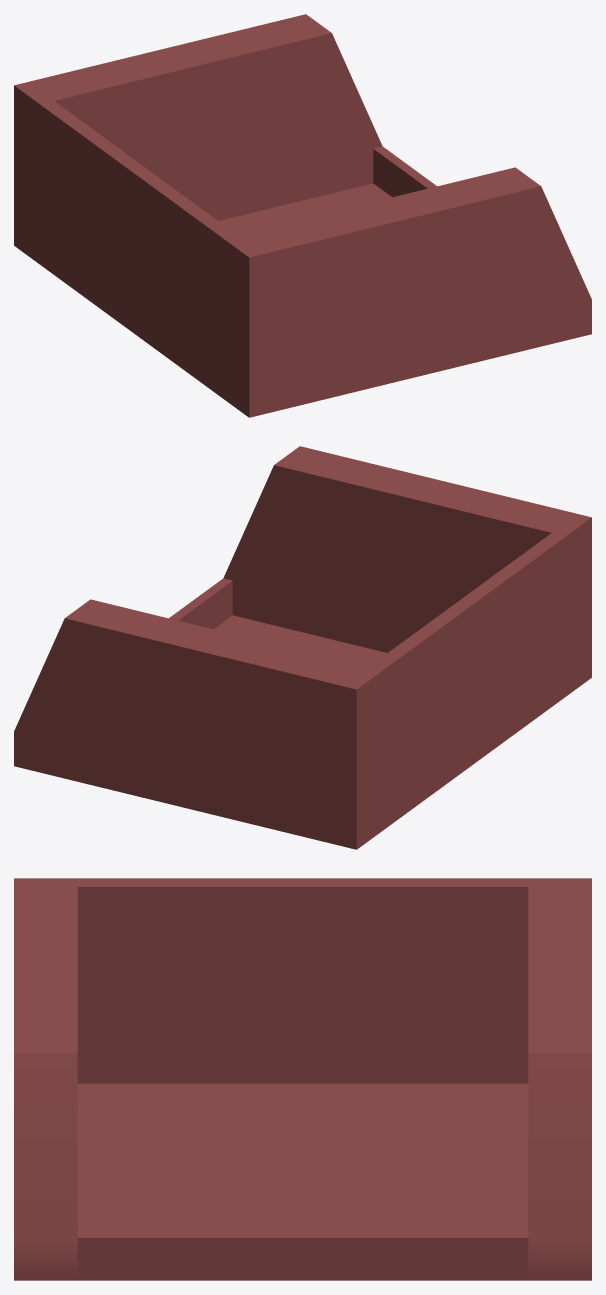
File: equipment holder.fbx
3 renders of one model, top to bottom at view 1: azimuth 30°, elevation 25°; view 2: azimuth 150°, elevation 25°; view 3: azimuth 270°, elevation 25°, orthographic. The views are drawn at different scales.
Parts seen in each view (by area): view 1: pCube318; view 2: pCube318; view 3: pCube318.
Part boxes in pixels (<box>): pCube318: <box>14,14,591,417</box>; pCube318: <box>14,446,591,849</box>; pCube318: <box>14,878,591,1280</box>.
Bounding box in the file's own units: 0.6555 × 0.2929 × 0.7793.
Materials: 1 (1 with a texture image).
